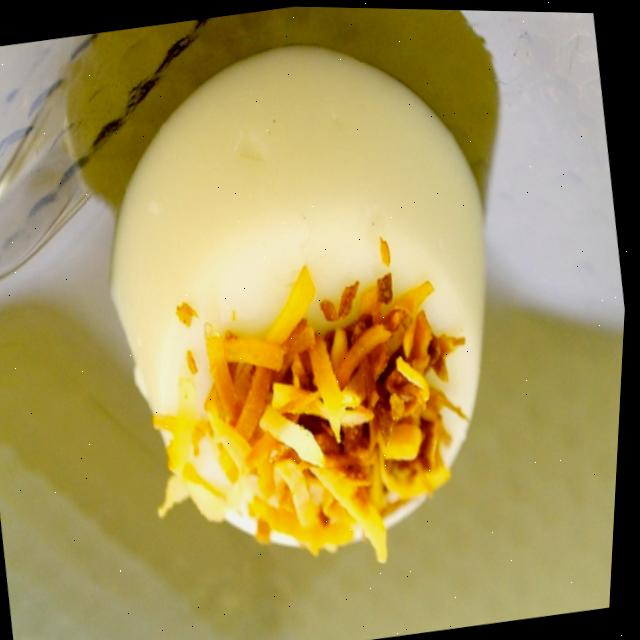蛋糕甜品: (25, 1, 609, 635)
